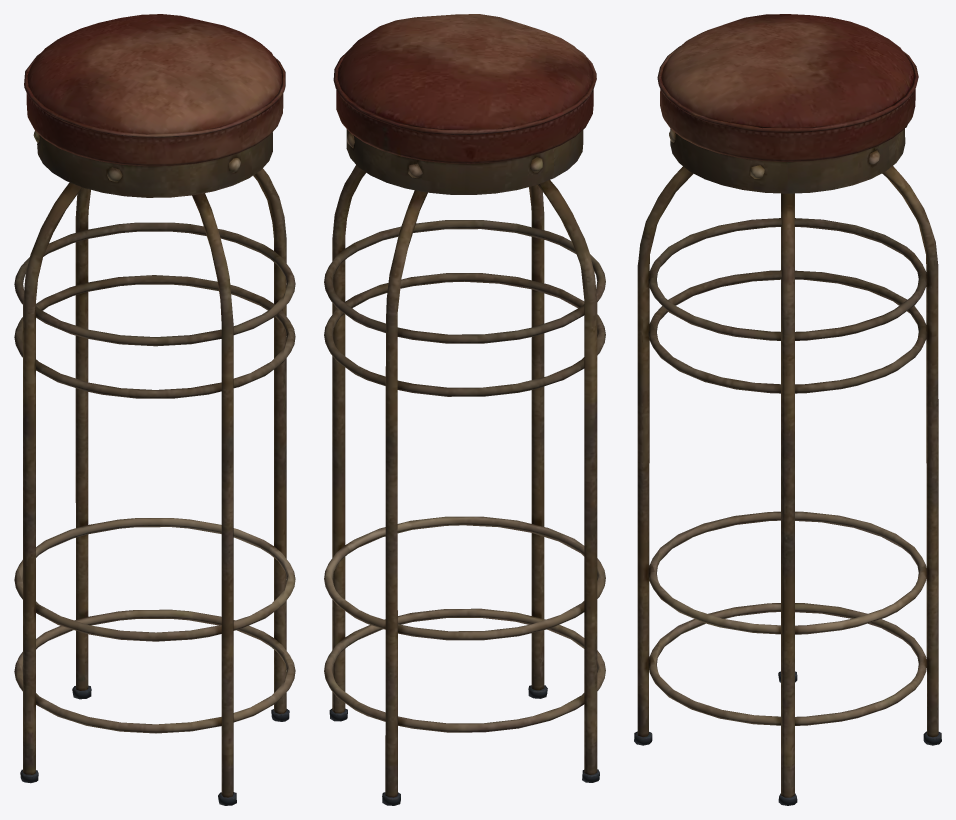
Rendered from metal_stool_01.glb.
3 views of the same model, side by side, from view 1: azimuth 30°, elevation 25°; view 2: azimuth 150°, elevation 25°; view 3: azimuth 270°, elevation 25° (orthographic).
Visible parts, largest first — view 1: metal_stool_01; view 2: metal_stool_01; view 3: metal_stool_01.
Boxes of the visible parts, box(x1,y1,x2,y2) form: metal_stool_01: box(14, 14, 295, 805); metal_stool_01: box(324, 14, 605, 805); metal_stool_01: box(634, 14, 941, 805).
Bounding box in the file's own units: 0.3509 × 0.8824 × 0.3538.
1 material, 1 textured.
